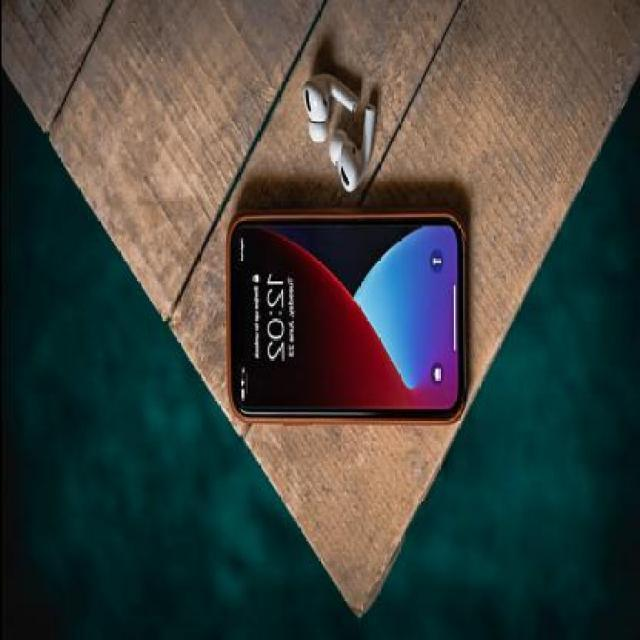phone: (227, 214, 464, 418)
